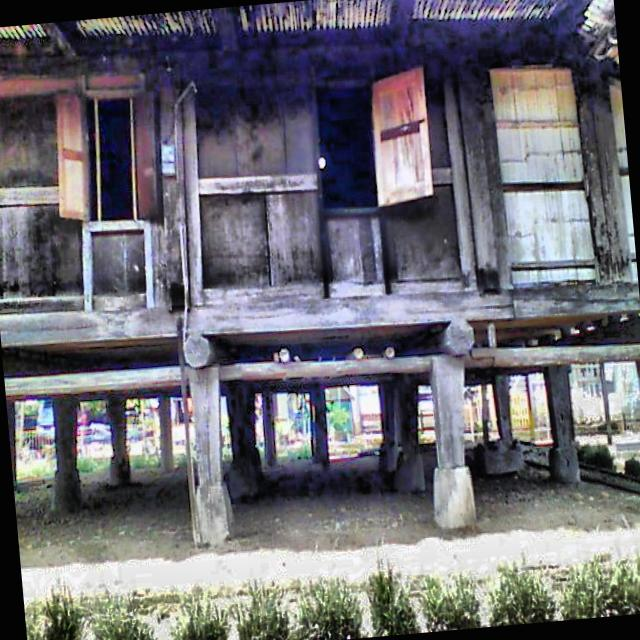column: (188, 367, 234, 547), (430, 355, 476, 528), (544, 369, 580, 482), (484, 377, 524, 474), (226, 393, 262, 496), (393, 385, 425, 490), (52, 398, 81, 510), (107, 398, 135, 485), (378, 383, 400, 472), (308, 388, 329, 470), (158, 397, 174, 472), (262, 391, 277, 464), (6, 400, 17, 487)
roof: (0, 0, 619, 70)
wall: (0, 32, 640, 346)
window: (315, 64, 433, 215), (58, 89, 158, 220)
